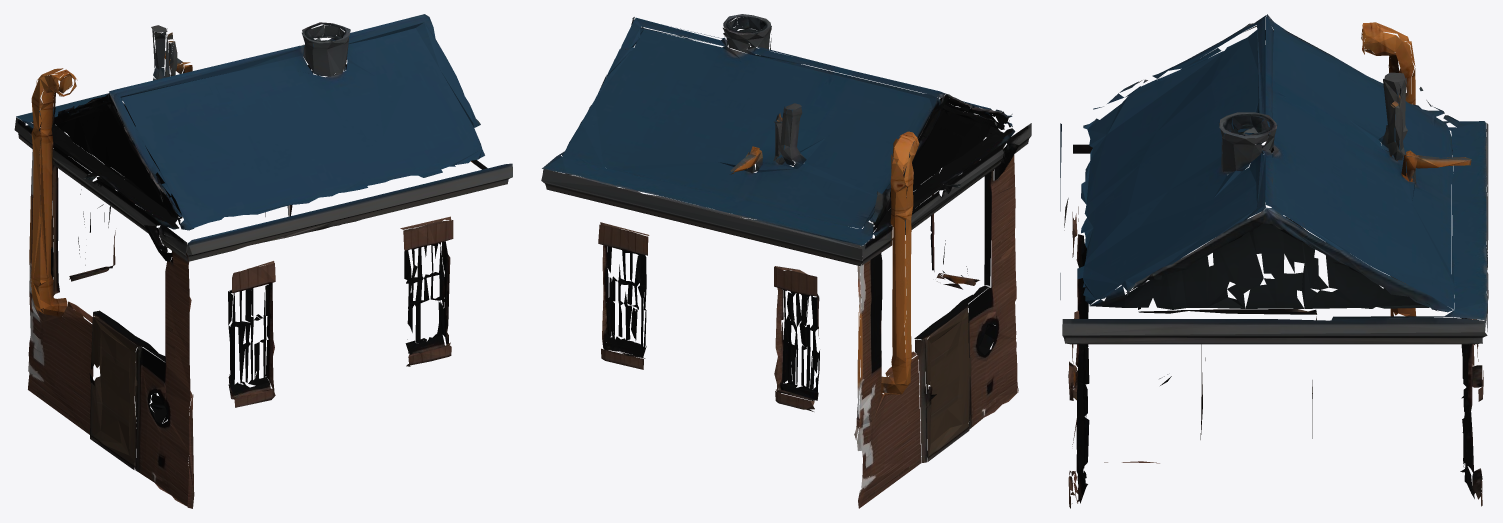
File: building_magitek.glb
3 views of the same model, side by side, from view 1: azimuth 30°, elevation 25°; view 2: azimuth 150°, elevation 25°; view 3: azimuth 270°, elevation 25° (orthographic). The views are drawn at different scales.
Parts seen in each view (by area): view 1: textured_mesh.obj.008; view 2: textured_mesh.obj.008; view 3: textured_mesh.obj.008.
Boxes of the visible parts, left/top/right/bottom form: textured_mesh.obj.008: left=14, top=14, right=512, bottom=508; textured_mesh.obj.008: left=541, top=14, right=1031, bottom=508; textured_mesh.obj.008: left=1060, top=14, right=1488, bottom=508.
Bounding box in the file's own units: 1.9 × 1.99 × 1.66.
1 material, 1 textured.
